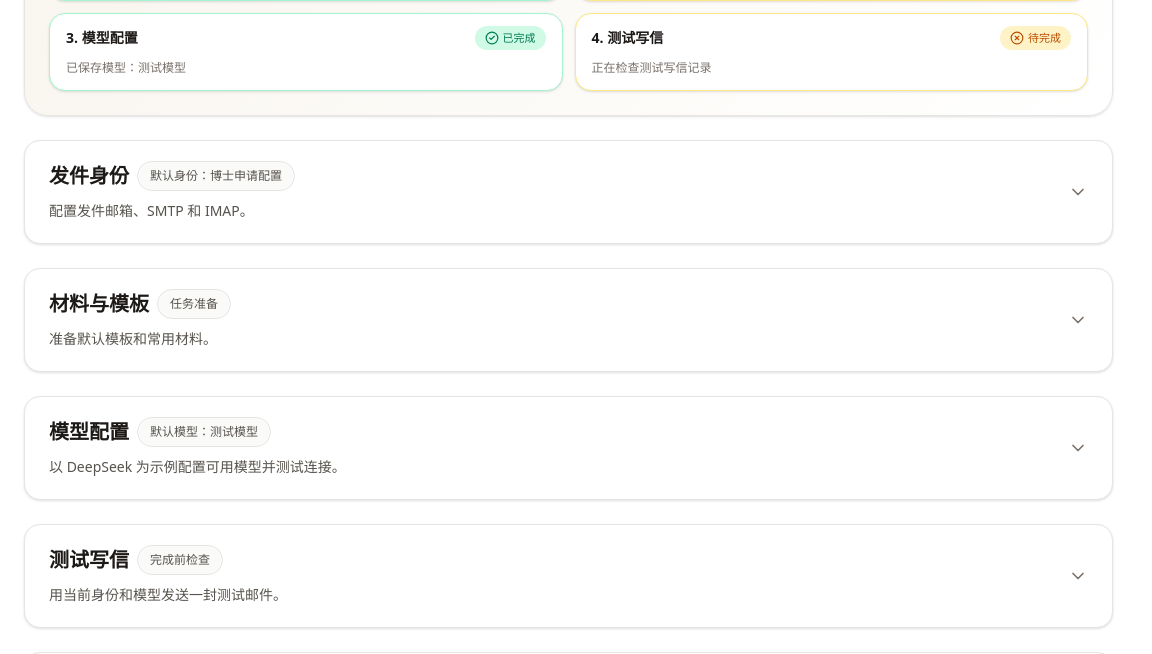
Test: ProfilePage onboarding › opens the material library modal from the reordered materials section
(page scrolled)
Click the button "材料与模板 任务准备 准备默认模板和常用材料。" at (99, 304), box [25, 269, 1112, 371]
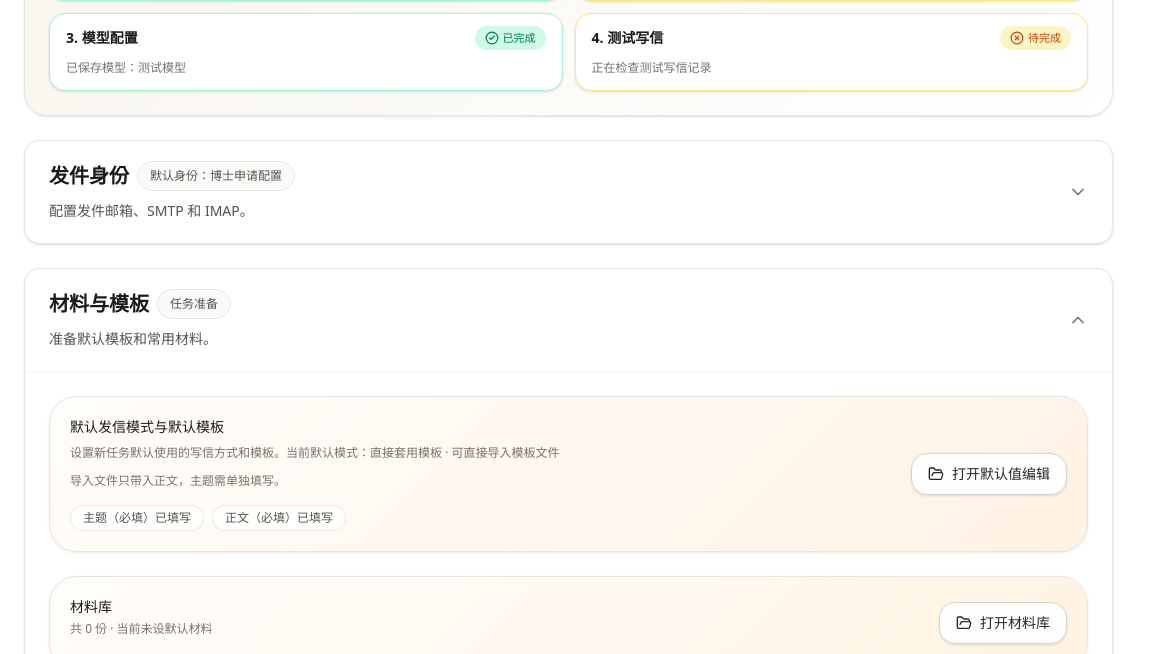
Click the button "打开材料库" at (1003, 623), box [939, 602, 1067, 644]
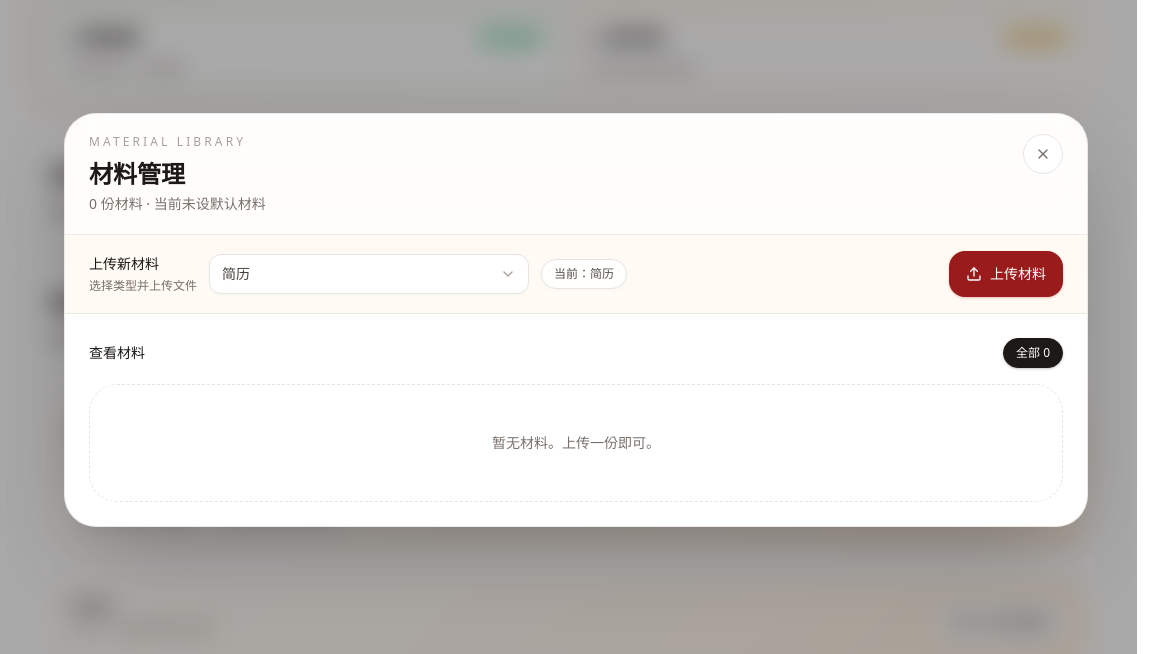
Now the heading "材料管理" is shown, box [89, 157, 185, 190]
Now the button named "关闭材料库" is shown, box [1023, 134, 1063, 174]
